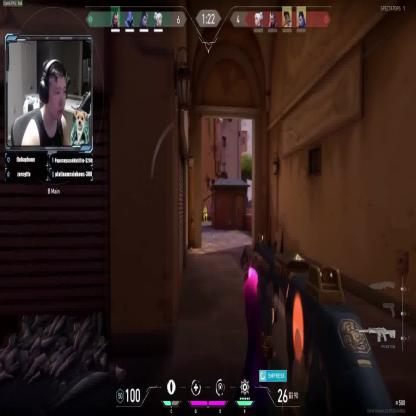enemy: (203, 205, 208, 222)
enemy_head: (204, 206, 206, 210)
